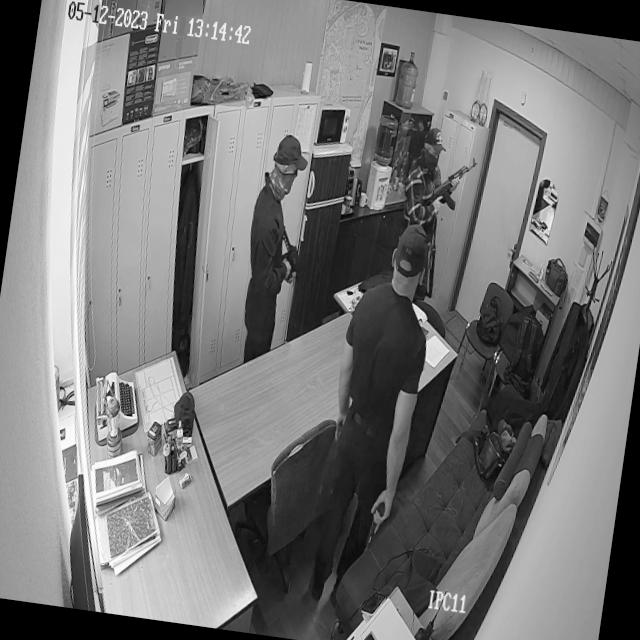gun: (429, 152, 478, 214), (276, 223, 307, 284), (365, 492, 391, 554)
person with a gun: (314, 225, 441, 552), (234, 132, 308, 355), (402, 130, 454, 238)
